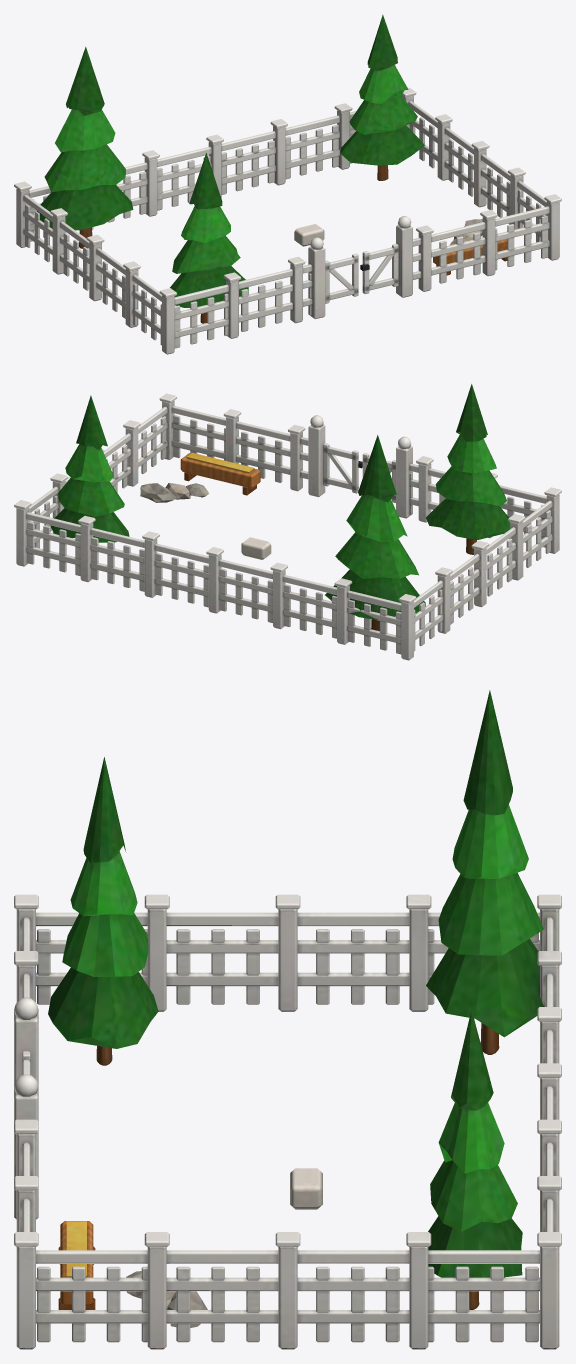
File: deer_park.glb
The picture shows the model from 3 angles, top to bottom: view 1: azimuth 30°, elevation 25°; view 2: azimuth 150°, elevation 25°; view 3: azimuth 270°, elevation 25°; orthographic projection. The views are drawn at different scales.
Visible parts, largest first — view 1: deer_park, gate1, gate0; view 2: deer_park, gate1; view 3: deer_park.
Boxes of the visible parts, box(x1,y1,x2,y2) form: deer_park: box(14, 14, 561, 354); gate1: box(360, 243, 398, 294); gate0: box(325, 253, 358, 303); deer_park: box(14, 384, 561, 660); gate1: box(323, 443, 362, 493); deer_park: box(14, 690, 561, 1349).
Size of the model in its own units: 2.99 by 1.45 by 1.99.
1 material, 1 textured.
